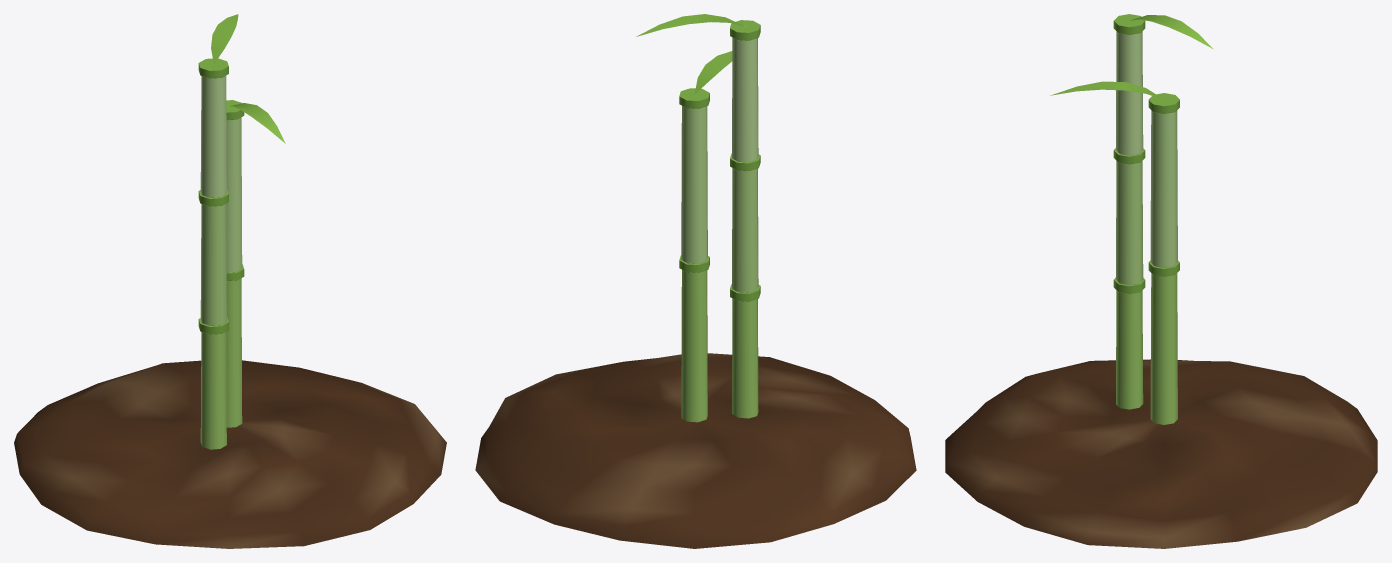
File: plant-bamboo-1.gltf
3 renders of one model, left to right at view 1: azimuth 30°, elevation 25°; view 2: azimuth 150°, elevation 25°; view 3: azimuth 270°, elevation 25°, orthographic.
Bounding box in the file's own units: 1.28 × 1.4 × 1.26.
